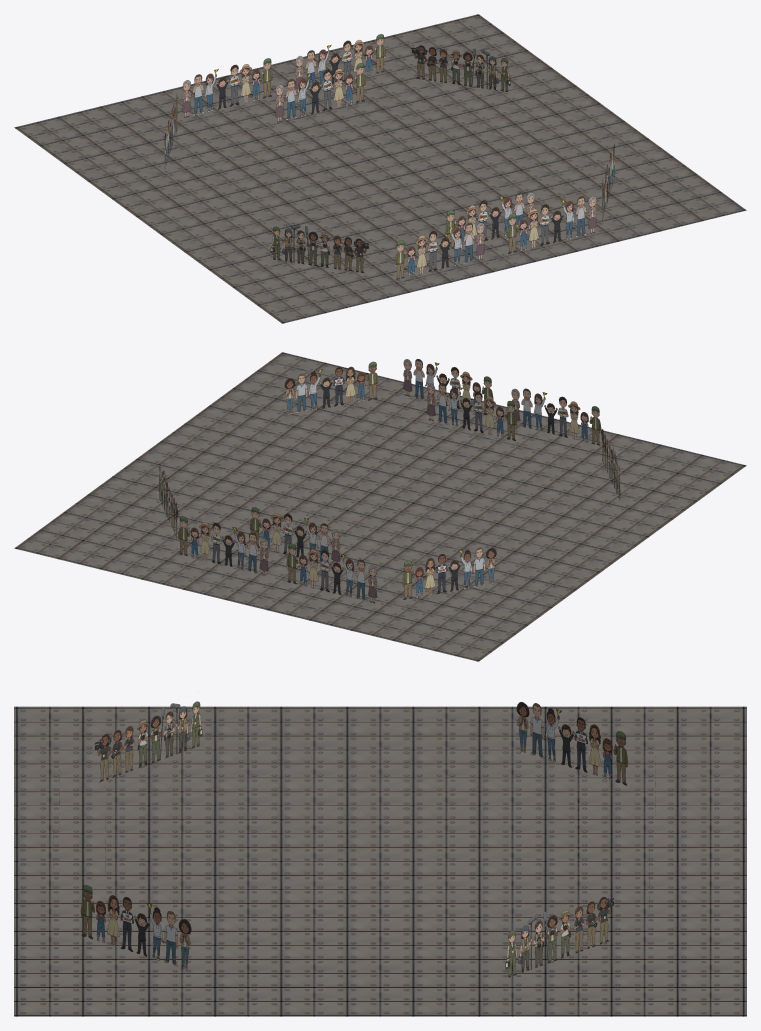
Rendered from skybox.glb.
The picture shows the model from 3 angles, top to bottom: view 1: azimuth 30°, elevation 25°; view 2: azimuth 150°, elevation 25°; view 3: azimuth 270°, elevation 25°; orthographic projection. The views are drawn at different scales.
Visible parts, largest first — view 1: Plane.002_0; view 2: Plane.002_0; view 3: Plane.002_0.
Part boxes in pixels (x1,y1,x2,y2): Plane.002_0: (14, 14, 746, 323); Plane.002_0: (14, 352, 746, 661); Plane.002_0: (14, 701, 746, 1016).
Size of the model in its own units: 30 by 2.63 by 30.
4 materials, 4 textured.
